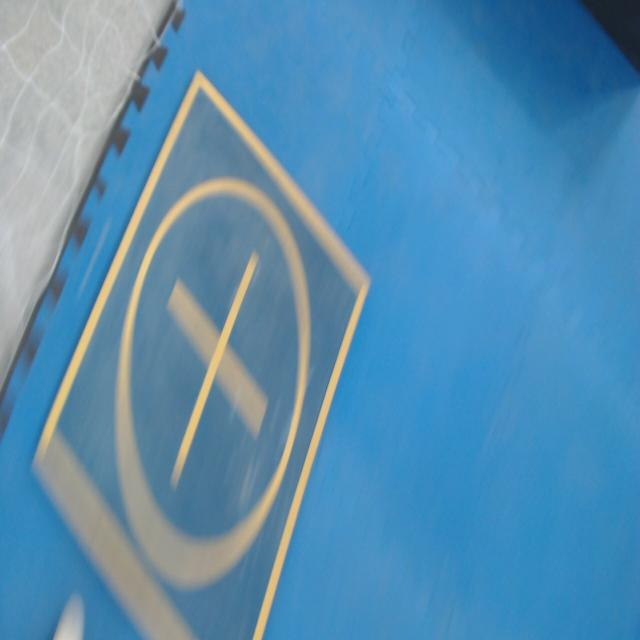base_pouso: (28, 68, 372, 639)
